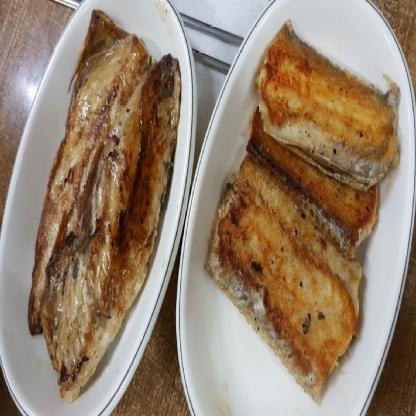Peixe: (0, 4, 188, 402)
